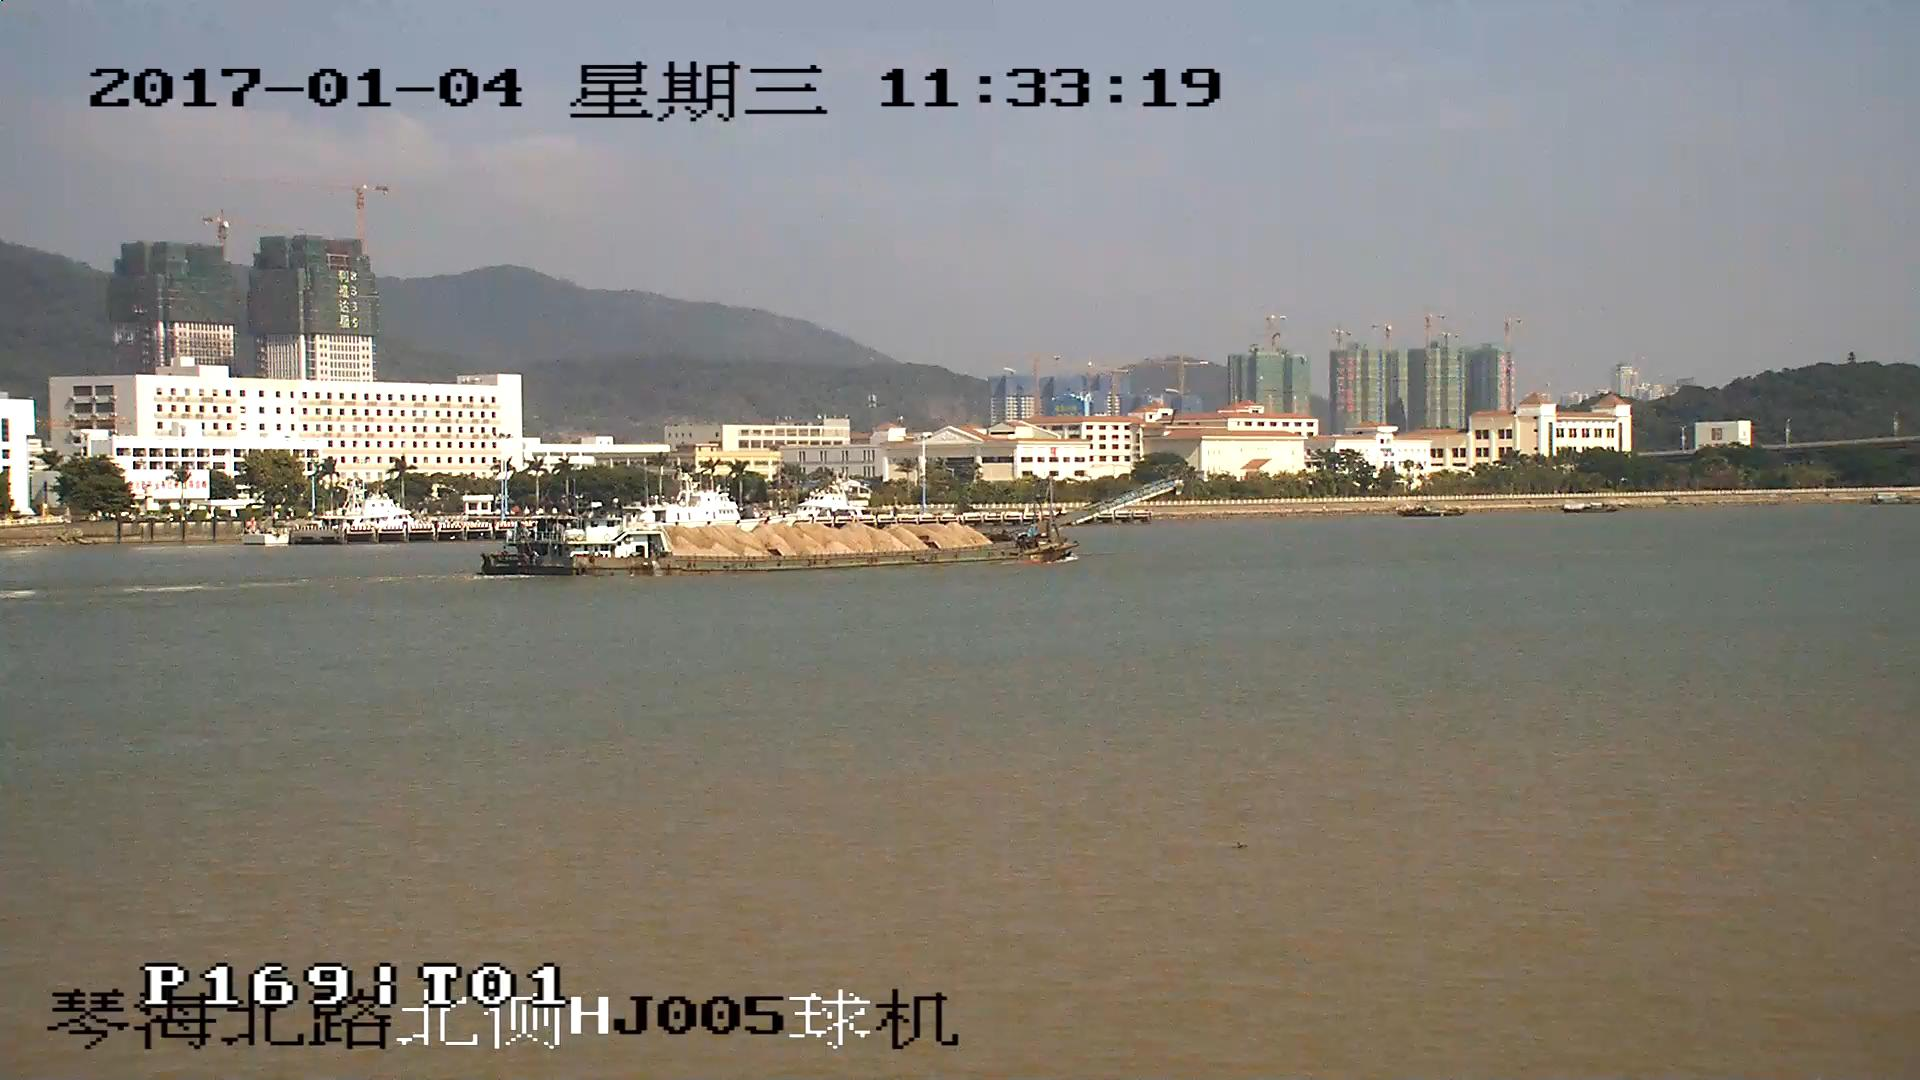ore carrier: (485, 477, 1178, 577)
